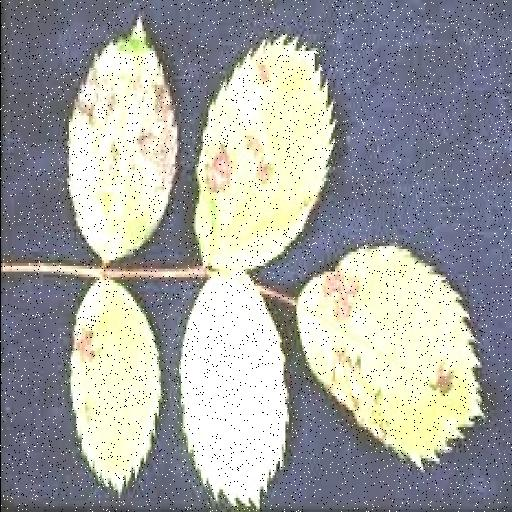downy_mildew: (296, 247, 480, 466), (195, 37, 332, 268), (68, 20, 176, 260), (180, 275, 286, 503), (70, 281, 159, 492)
